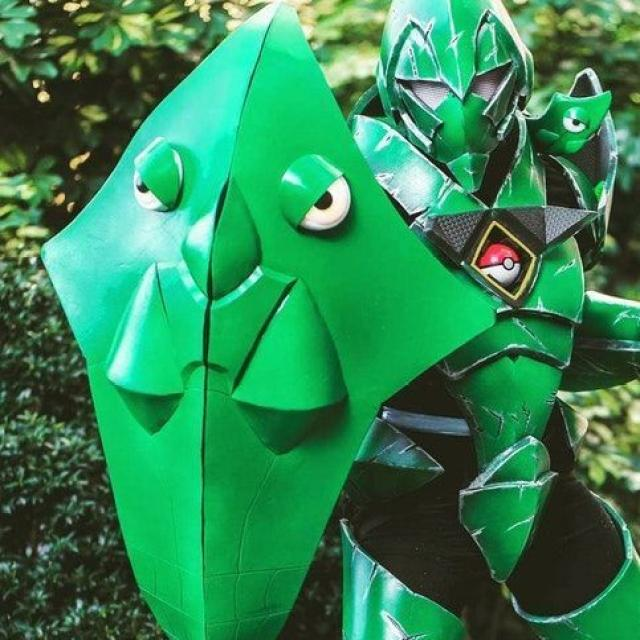Metapod: (63, 25, 444, 640)
